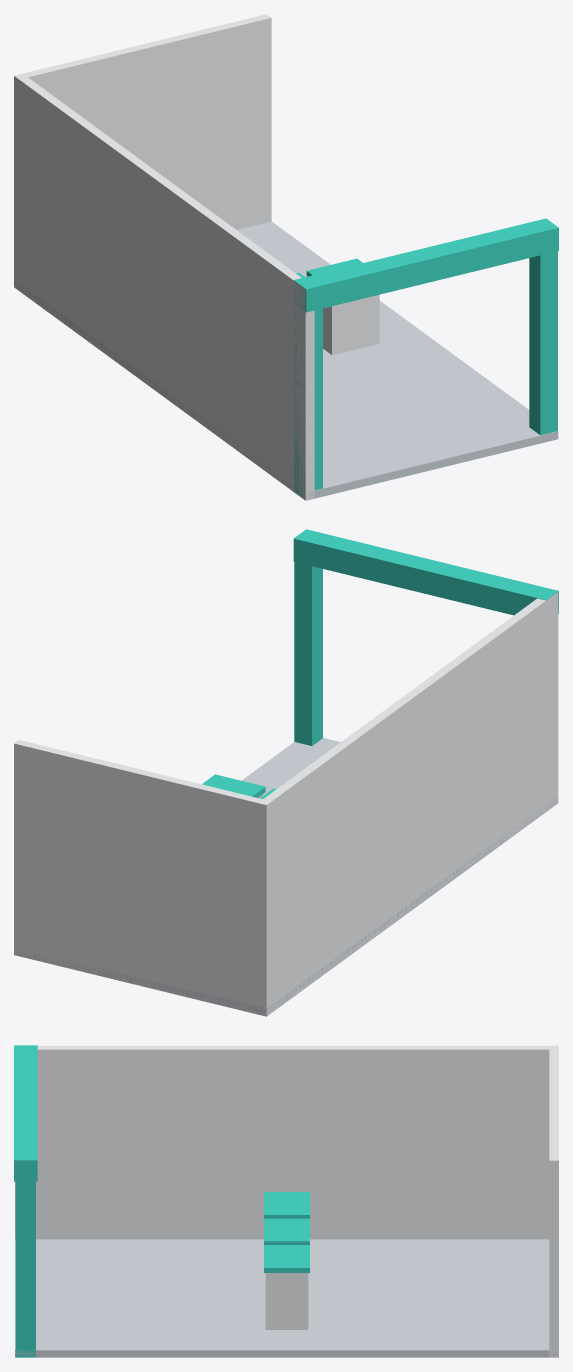
3 renders of one model, top to bottom at view 1: azimuth 30°, elevation 25°; view 2: azimuth 150°, elevation 25°; view 3: azimuth 270°, elevation 25°, orthographic. The views are drawn at different scales.
Parts seen in each view (by area): view 1: Exhibition Booth Concept; view 2: Exhibition Booth Concept; view 3: Exhibition Booth Concept.
Part boxes in pixels (left/top/right/bottom): Exhibition Booth Concept: left=14, top=14, right=558, bottom=500; Exhibition Booth Concept: left=14, top=529, right=558, bottom=1016; Exhibition Booth Concept: left=14, top=1045, right=558, bottom=1357.
Size of the model in its own units: 4 by 3.2 by 8.01.
